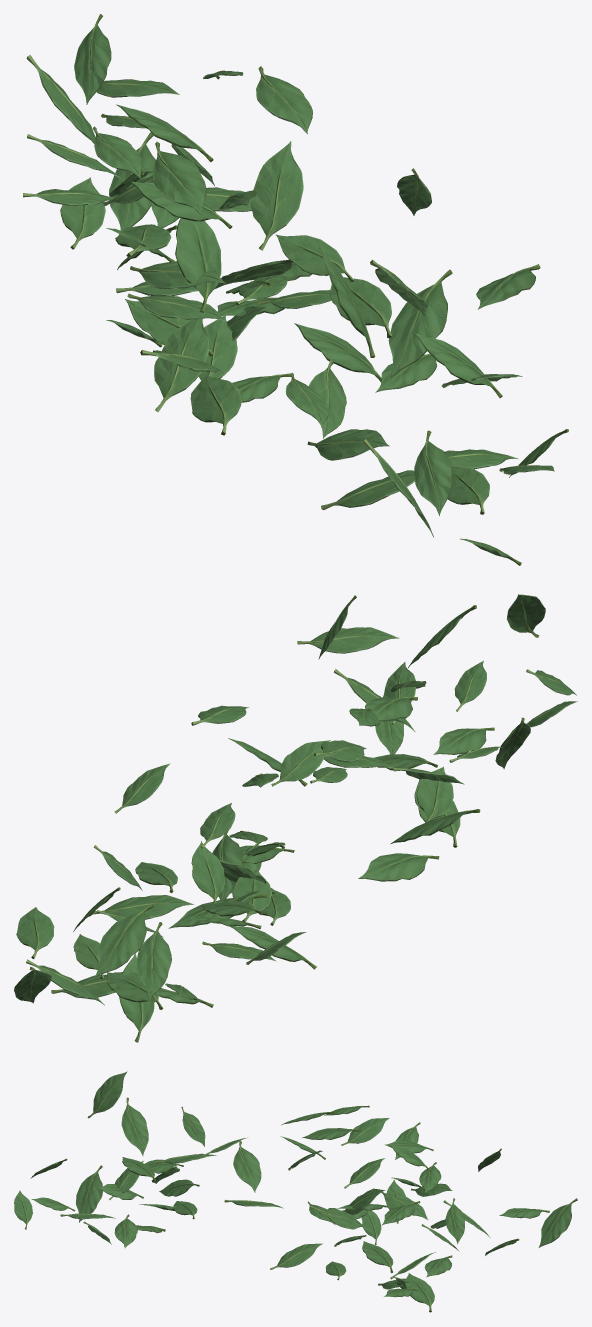
File: holy_canopy13_complete.glb
3 views of the same model, one above another, from view 1: azimuth 30°, elevation 25°; view 2: azimuth 150°, elevation 25°; view 3: azimuth 270°, elevation 25° (orthographic). The views are drawn at different scales.
Visible parts, largest first — view 1: holy_canopy13; view 2: holy_canopy13; view 3: holy_canopy13.
Boxes of the visible parts, left/top/right/bottom form: holy_canopy13: left=23, top=14, right=568, bottom=565; holy_canopy13: left=14, top=594, right=577, bottom=1042; holy_canopy13: left=14, top=1071, right=577, bottom=1312.
Size of the model in its own units: 9.05 by 9.28 by 24.74.
1 material, 1 textured.
